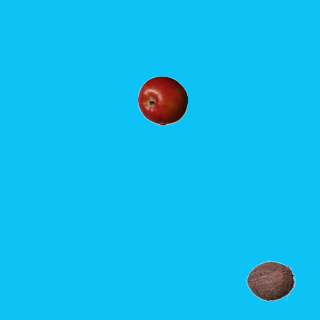Apple Braeburn: (137, 75, 187, 125)
Cocos: (245, 255, 295, 305)
